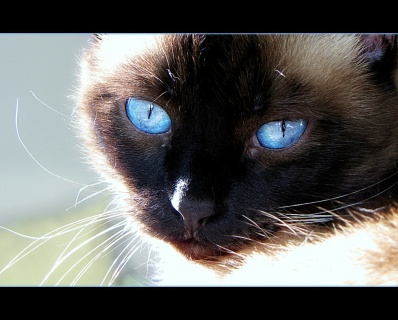Cat: (0, 33, 397, 287)
